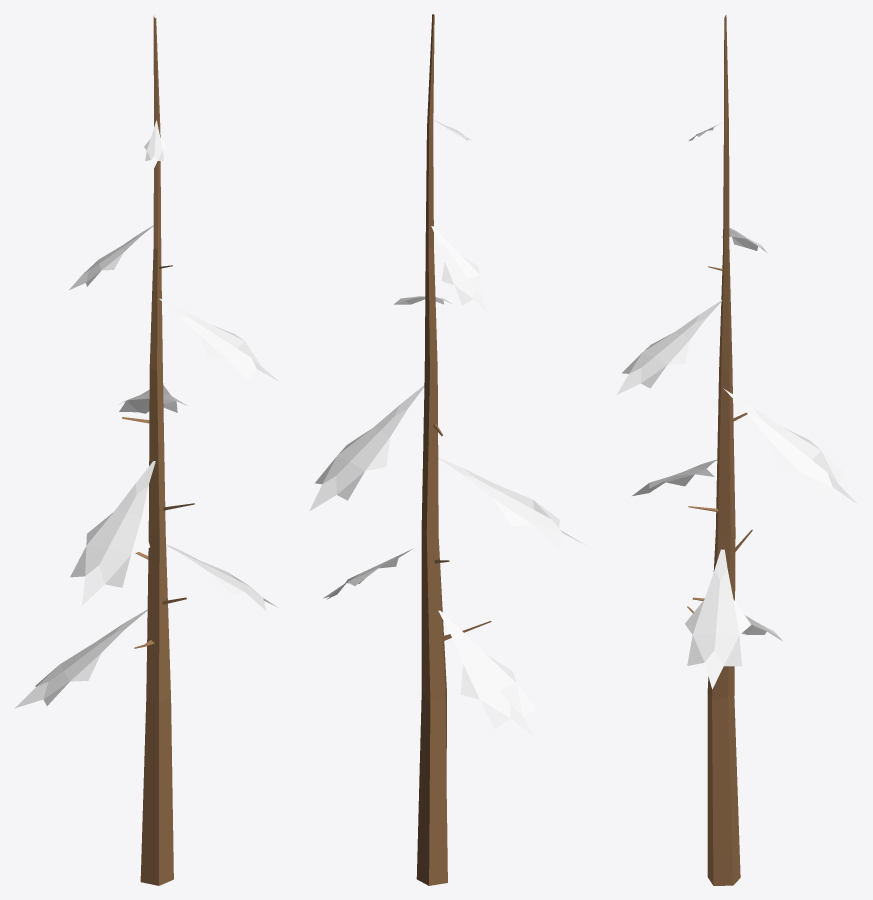
File: Dead_Pine_Tree_OneSided_l_Snow_02_LOD.fbx
3 renders of one model, left to right at view 1: azimuth 30°, elevation 25°; view 2: azimuth 150°, elevation 25°; view 3: azimuth 270°, elevation 25°, orthographic.
Visible parts, largest first — view 1: Dead_Pine_Tree_OneSided_l_Snow_02_LOD0; view 2: Dead_Pine_Tree_OneSided_l_Snow_02_LOD0; view 3: Dead_Pine_Tree_OneSided_l_Snow_02_LOD0.
Part boxes in pixels (x1,y1,x2,y2): Dead_Pine_Tree_OneSided_l_Snow_02_LOD0: (15,14,279,885); Dead_Pine_Tree_OneSided_l_Snow_02_LOD0: (309,14,585,885); Dead_Pine_Tree_OneSided_l_Snow_02_LOD0: (616,14,857,885).
Size of what is drawn, in the model's own units: 508 by 1764 by 448.
